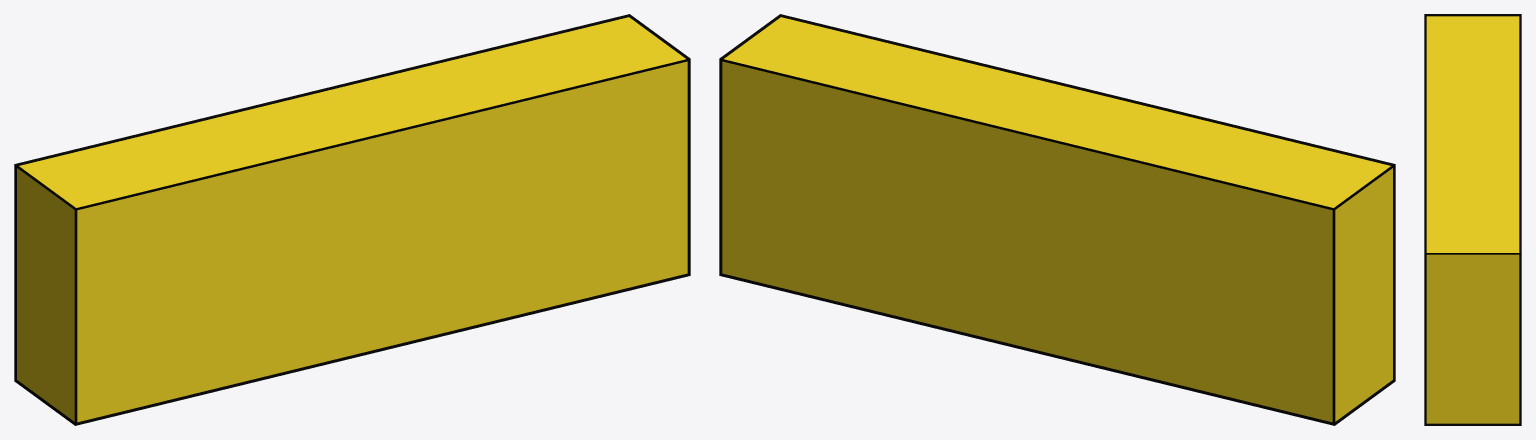
The model's file is cuboid3_yellow.obj.
The picture shows the model from 3 angles, left to right: view 1: azimuth 30°, elevation 25°; view 2: azimuth 150°, elevation 25°; view 3: azimuth 270°, elevation 25°; orthographic projection. The views are drawn at different scales.
Parts seen in each view (by area): view 1: cuboid_3, 立方体; view 2: cuboid_3, 立方体; view 3: cuboid_3, 立方体.
Part boxes in pixels (x1=…): cuboid_3: x1=17, y1=17, x2=687, y2=422; 立方体: x1=14, y1=14, x2=690, y2=425; cuboid_3: x1=722, y1=17, x2=1392, y2=422; 立方体: x1=719, y1=14, x2=1395, y2=425; cuboid_3: x1=1426, y1=16, x2=1519, y2=423; 立方体: x1=1424, y1=14, x2=1521, y2=425.
Size of the model in its own units: 0.1509 by 0.0509 by 0.0259.
